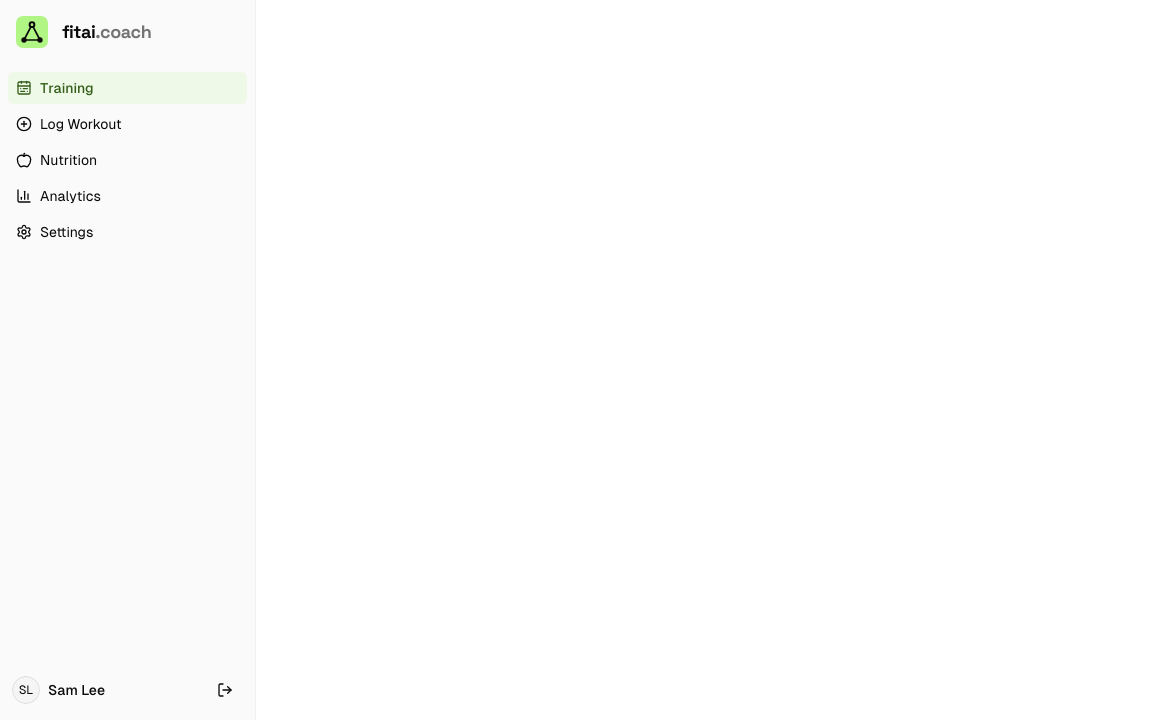
Test case: AppSidebar sign-out › names the unsynced changes and keeps them when the athlete stays signed in
Click the button with test id "button-logout" at {"x": 225, "y": 690}, box [207,672,243,708]
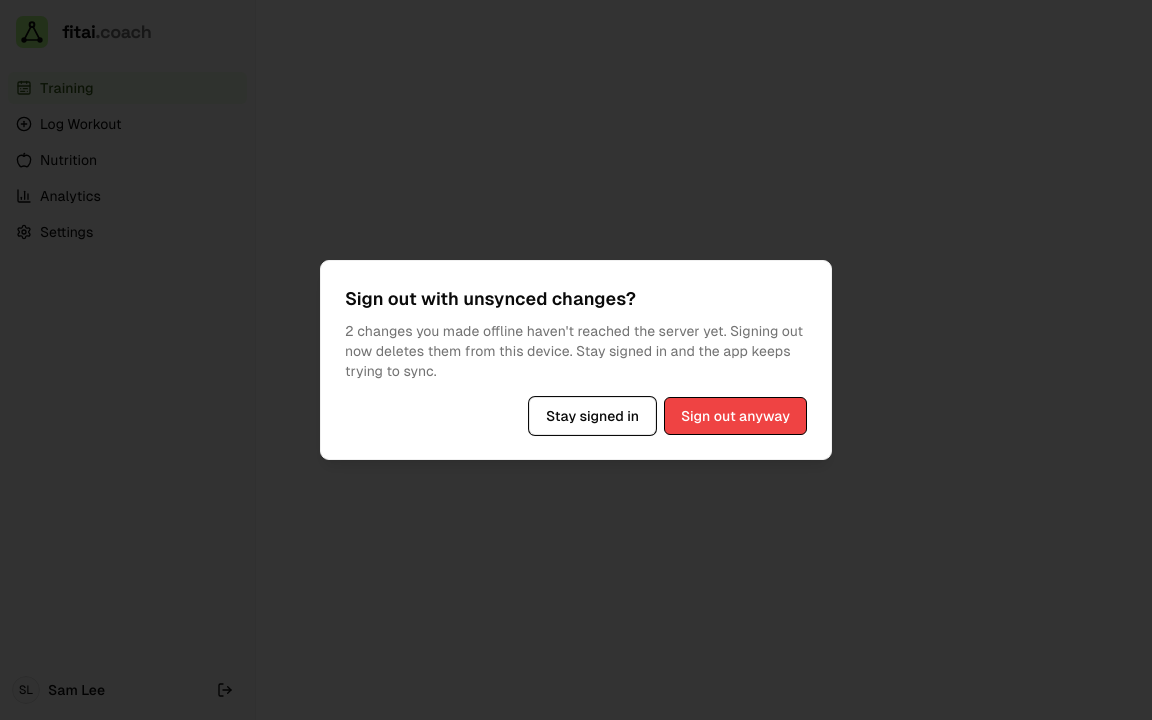
Check: the dialog shows "2 changes you made offline haven't reached the server yet", box [345,323,803,379]
Click the button with test id "button-cancel-logout" at {"x": 592, "y": 416}, box [529,397,656,435]
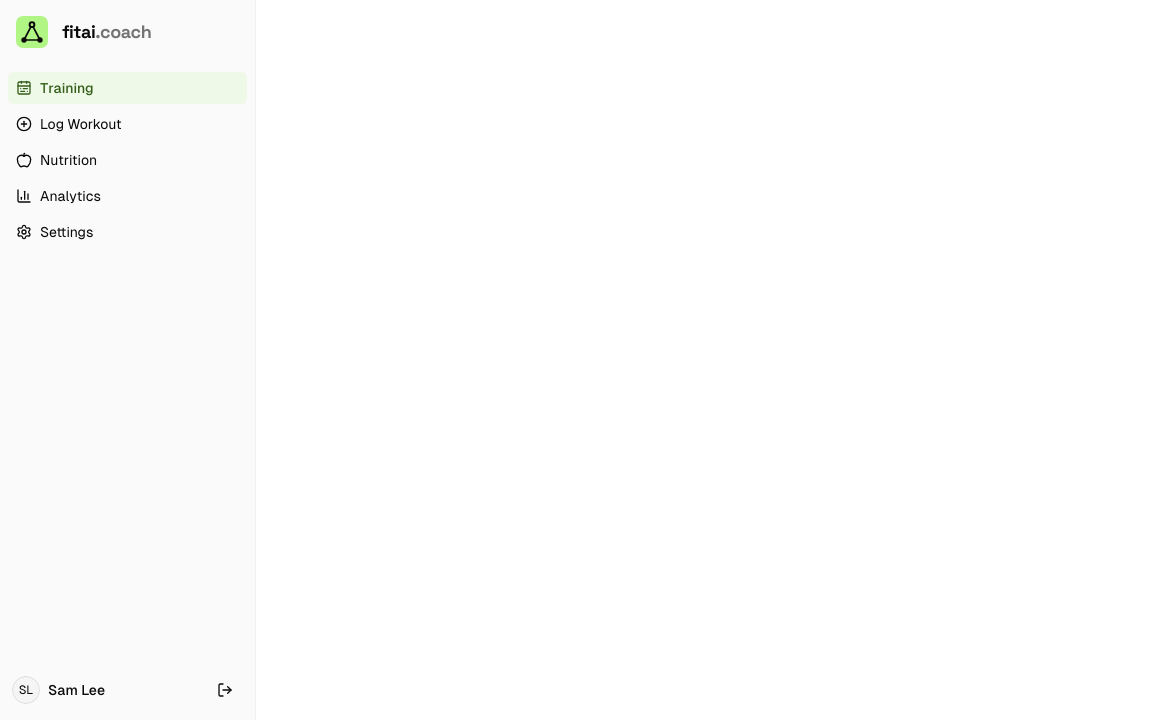
Check: the dialog is gone
